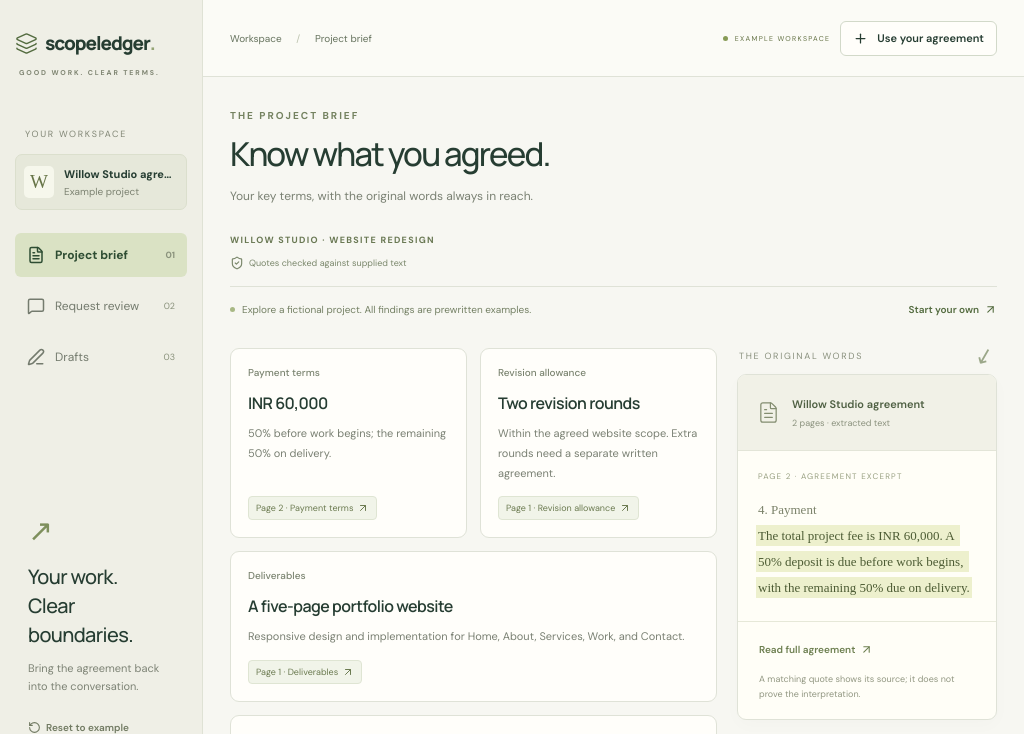
it: cannot start analysis after closing intake while source hashing is pending
Expected: the heading "Know what you agreed." is shown, [230,131,550,176]
Click the button "Use your agreement". click: (919, 38)
box: [840,20,997,56]
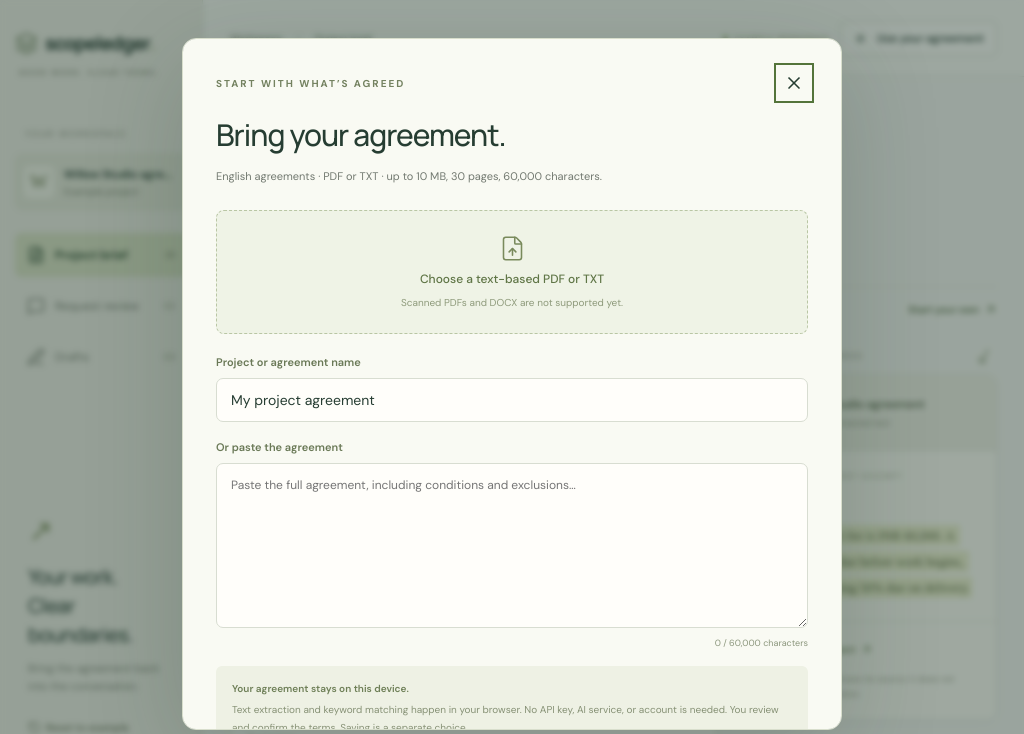
Replace the text in the text box labelled "Or paste the agreement" with "A website for INR 30,000.". click: (512, 545)
box: [216,463,808,628]
(page scrolled)
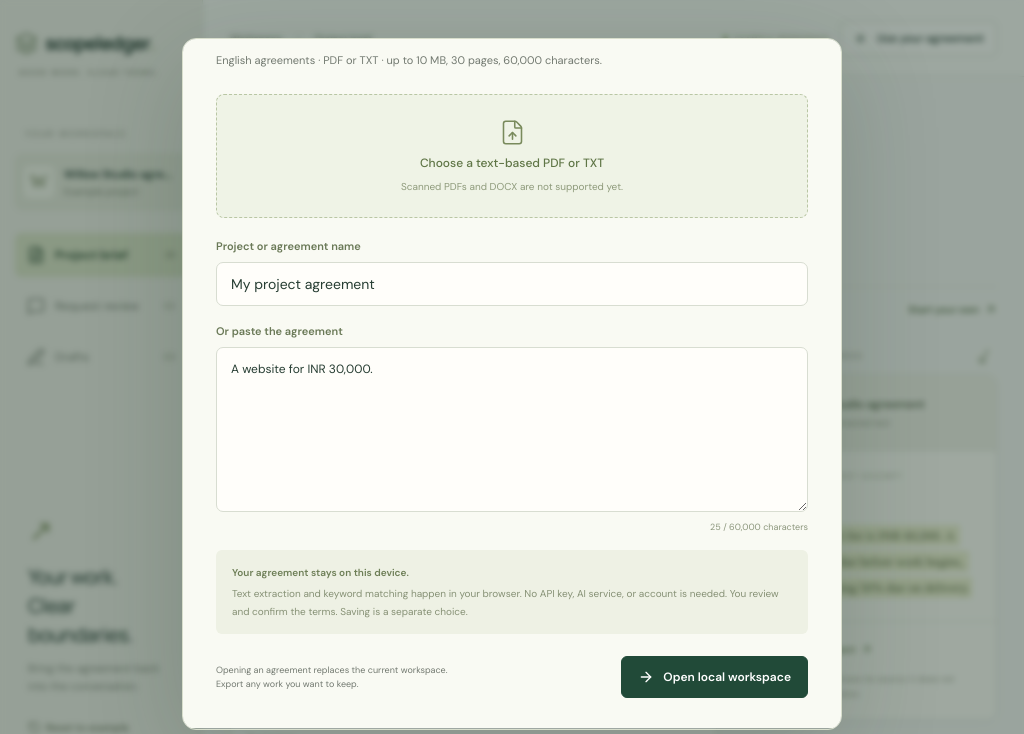
Click the button "Open local workspace". click: (715, 677)
box: [621,656,808,698]
(page scrolled)
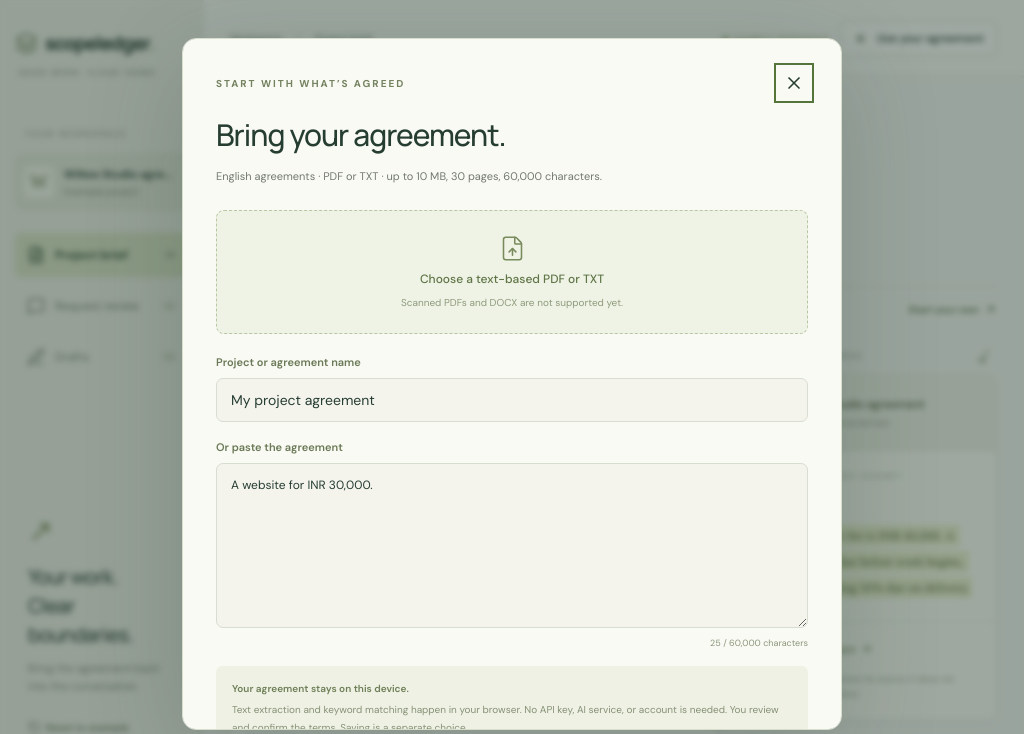
Click the button named "Close agreement intake". click: (794, 83)
box: [780,69,808,97]
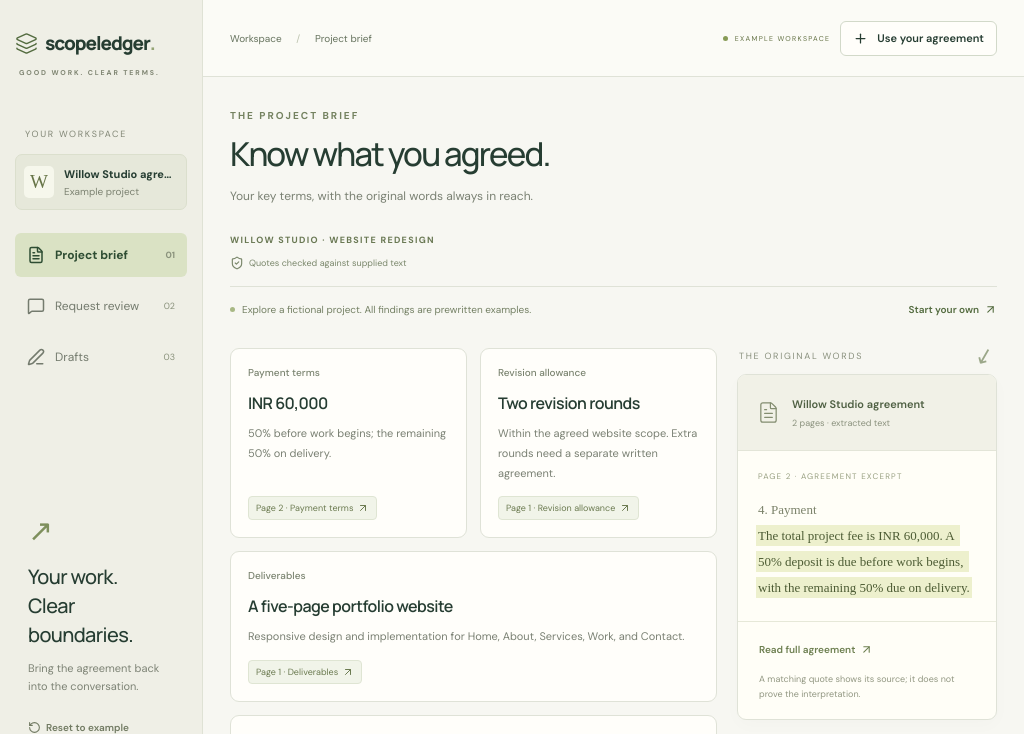
Expected: the text "EXAMPLE WORKSPACE" is shown, [723,34,830,42]
Expected: the dialog is gone
